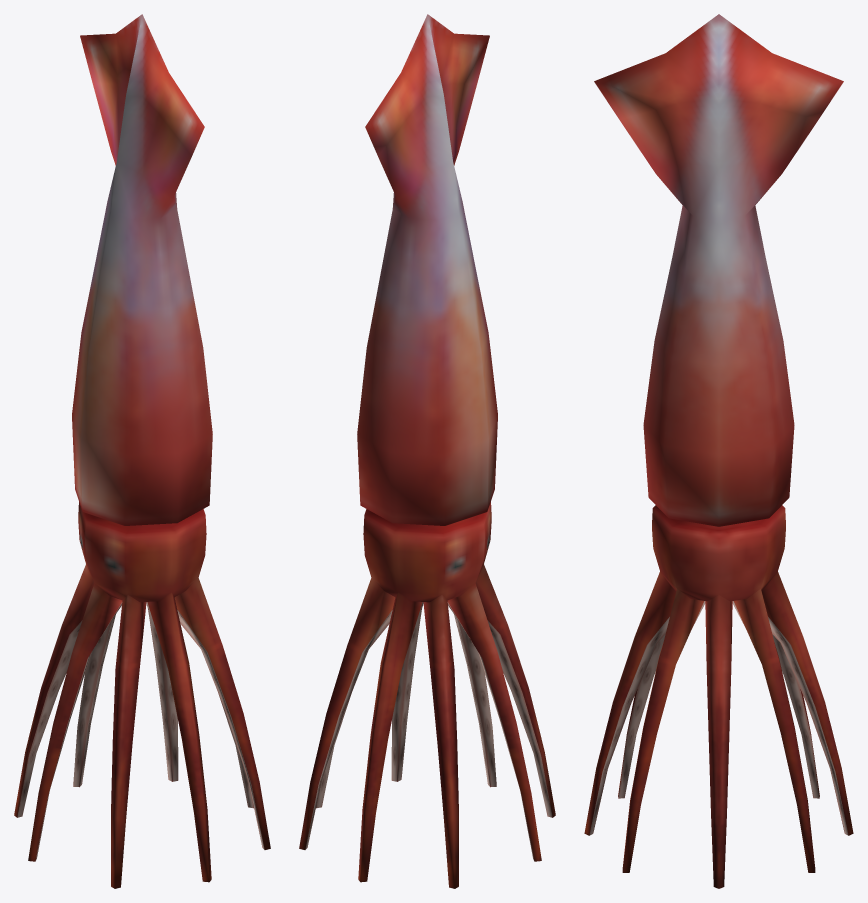
The model's file is f23_youyu.FBX.
3 renders of one model, left to right at view 1: azimuth 30°, elevation 25°; view 2: azimuth 150°, elevation 25°; view 3: azimuth 270°, elevation 25°, orthographic.
Visible parts, largest first — view 1: f23_youyu_01; view 2: f23_youyu_01; view 3: f23_youyu_01.
Boxes of the visible parts, x1=… form: f23_youyu_01: x1=14, y1=14, x2=270, y2=888; f23_youyu_01: x1=299, y1=14, x2=555, y2=888; f23_youyu_01: x1=584, y1=14, x2=853, y2=888.
Size of the model in its own units: 40 by 138 by 40.92.
